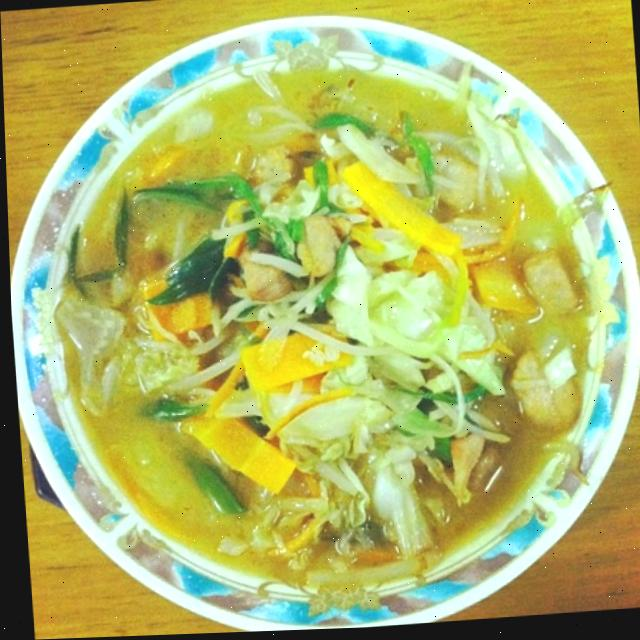面条主食: (7, 19, 634, 618)
